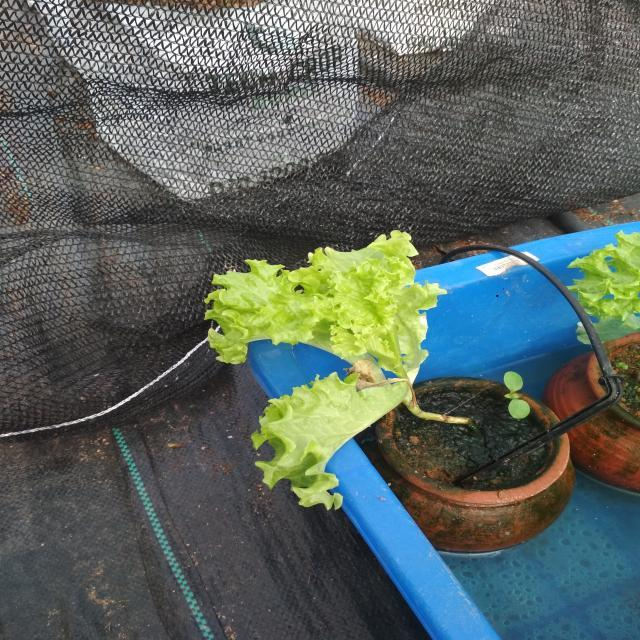Lettuce-Not-Ready-to-Harvest: (197, 223, 475, 521)
